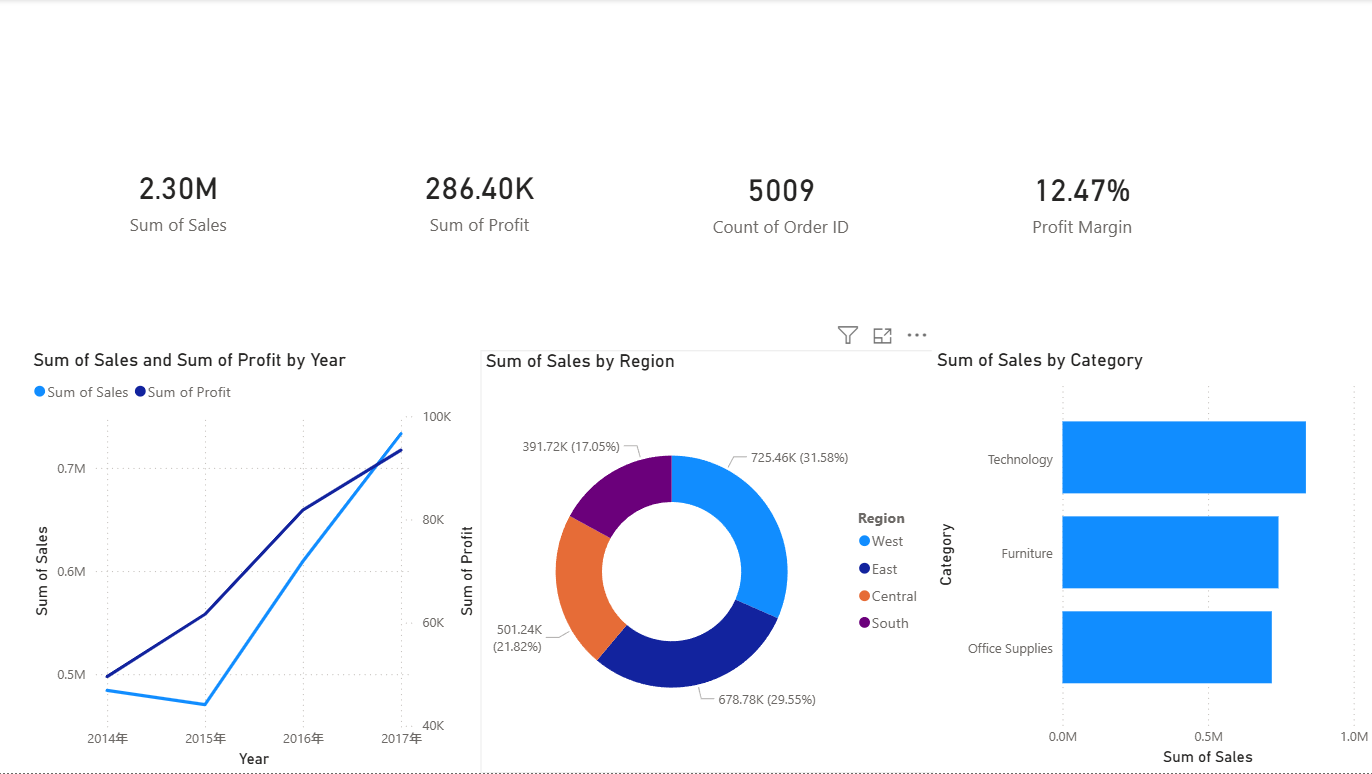

The dashboard page shown, as its layout file describes it:
{"tool":"powerbi","page":{"name":"Sales Overview","canvas":[1280,720],"ordinal":0},"visuals":[{"type":"card","fields":{"Values":["Sum(Sample - Superstore.Sales)"]},"box":[27.4,45.3,279.9,279.9],"z":0},{"type":"card","fields":{"Values":["Sum(Sample - Superstore.Profit)"]},"box":[308.1,45.3,280.2,280.2],"z":1000},{"type":"card","fields":{"Values":["Count(Sample - Superstore.Order ID)"]},"box":[588.4,46.5,280.2,280.2],"z":2000},{"type":"card","fields":{"Values":["Sample - Superstore.Profit Margin"]},"box":[868.6,46.5,280.2,280.2],"z":3000},{"type":"lineChart","fields":{"Category":["Sample - Superstore.Order Date.Variation.Date Hierarchy.Year","Sample - Superstore.Order Date.Variation.Date Hierarchy.Quarter","Sample - Superstore.Order Date.Variation.Date Hierarchy.Month","Sample - Superstore.Order Date.Variation.Date Hierarchy.Day"],"Y":["Sum(Sample - Superstore.Sales)"],"Y2":["Sum(Sample - Superstore.Profit)"]},"box":[27.9,325.6,420.9,394.2],"z":4000},{"type":"donutChart","fields":{"Category":["Sample - Superstore.Region"],"Y":["Sum(Sample - Superstore.Sales)"]},"box":[448.8,326.7,420.9,393],"z":5000},{"type":"clusteredBarChart","fields":{"Category":["Sample - Superstore.Category","Sample - Superstore.Sub-Category"],"Y":["Sum(Sample - Superstore.Sales)"]},"box":[868.6,325.6,411.6,393],"z":6000}]}

Visuals, with their boxes in screenshot pixels (x1, y1, x2, y2), scaled from the page's 1280x720 canvas onto the 1372x774 screenshot:
card - Sum(Sample - Superstore.Sales): 29 49 329 350
card - Sum(Sample - Superstore.Profit): 330 49 631 350
card - Count(Sample - Superstore.Order ID): 631 50 931 351
card - Sample - Superstore.Profit Margin: 931 50 1231 351
lineChart - Sample - Superstore.Order Date.Variation.Date Hierarchy.Year x Sample - Superstore.Order Date.Variation.Date Hierarchy.Quarter: 30 350 481 773
donutChart - Sample - Superstore.Region x Sum(Sample - Superstore.Sales): 481 351 932 773
clusteredBarChart - Sample - Superstore.Category x Sample - Superstore.Sub-Category: 931 350 1371 772
